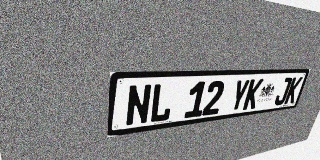1: (184, 81, 209, 118)
2: (202, 80, 226, 116)
J: (273, 77, 293, 106)
K: (242, 79, 264, 110), (284, 77, 303, 104)
L: (149, 83, 175, 123)
N: (125, 84, 152, 127)
Y: (228, 79, 250, 112)
